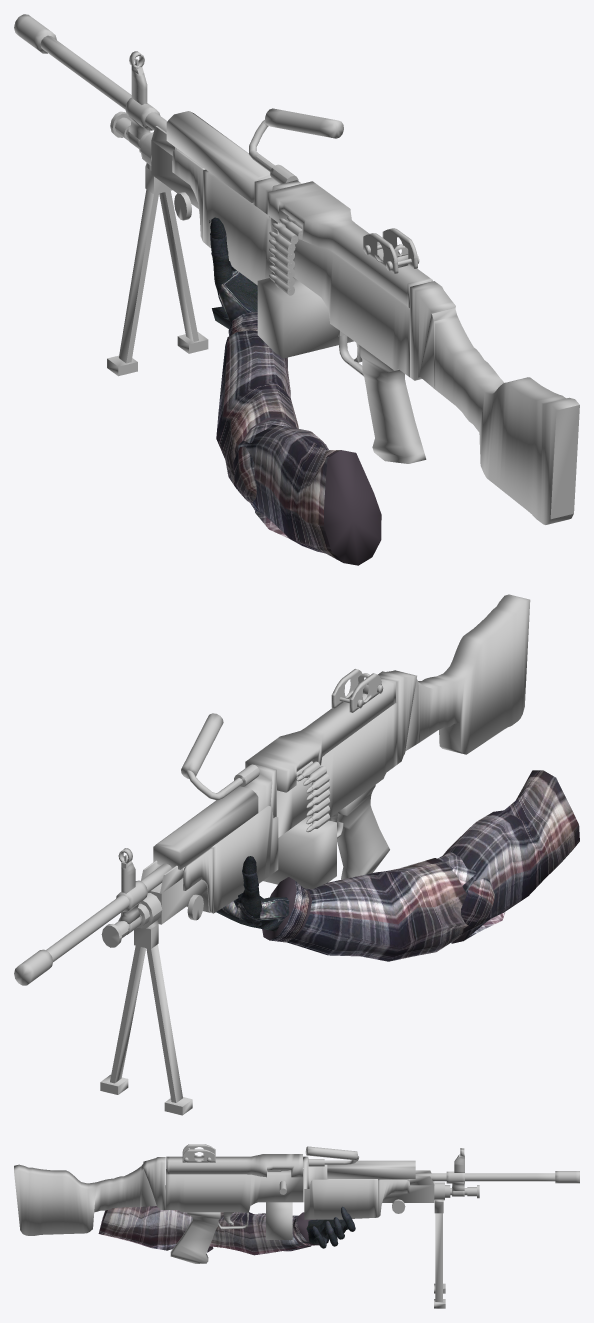
The model's file is m249_ads.fbx.
3 views of the same model, one above another, from view 1: azimuth 30°, elevation 25°; view 2: azimuth 150°, elevation 25°; view 3: azimuth 270°, elevation 25° (orthographic). The views are drawn at different scales.
Visible parts, largest first — view 1: larm, m249_stock, m249_body, m249_top, m249_grip, m249_bipod, m249_magazine, m249_pistol_grip, m249_cooler, m249_barrel, lhand, m249_front (+6 smaller); view 2: larm, m249_stock, m249_body, m249_grip, m249_top, m249_bipod, m249_cooler, m249_magazine, m249_pistol_grip, m249_barrel, lhand, m249_front (+5 smaller); view 3: m249_stock, m249_body, larm, m249_grip, m249_top, m249_pistol_grip, m249_cooler, m249_barrel, lhand, m249_front, m249_magazine, m249_bipod (+5 smaller).
Boxes of the visible parts, x1,y1,x2,y2 form: larm: (216, 311, 381, 565); m249_stock: (419, 308, 579, 524); m249_body: (253, 177, 455, 380); m249_top: (267, 181, 432, 307); m249_grip: (172, 149, 275, 285); m249_bipod: (107, 163, 208, 376); m249_magazine: (257, 277, 353, 358); m249_pistol_grip: (360, 346, 426, 463); m249_cooler: (166, 111, 271, 202); m249_barrel: (14, 14, 167, 132); lhand: (209, 217, 257, 328); m249_front: (151, 126, 198, 220); larm: (262, 770, 579, 961); m249_stock: (405, 594, 530, 754); m249_body: (244, 670, 416, 837); m249_grip: (183, 806, 278, 913); m249_top: (245, 677, 395, 792); m249_bipod: (100, 920, 192, 1115); m249_cooler: (153, 786, 258, 869); m249_magazine: (263, 816, 336, 888); m249_pistol_grip: (337, 785, 389, 879); m249_barrel: (14, 863, 172, 985); lhand: (216, 856, 289, 931); m249_front: (141, 860, 207, 924); m249_stock: (14, 1164, 156, 1235); m249_body: (143, 1156, 328, 1212); larm: (98, 1206, 318, 1255); m249_grip: (304, 1179, 409, 1219); m249_top: (166, 1154, 302, 1177); m249_pistol_grip: (170, 1212, 220, 1263); m249_cooler: (327, 1160, 415, 1178); m249_barrel: (415, 1171, 579, 1183); lhand: (301, 1206, 355, 1248); m249_front: (378, 1170, 434, 1213); m249_magazine: (266, 1202, 292, 1239); m249_bipod: (434, 1199, 445, 1308).
Bounding box in the file's own units: 11.48 × 16 × 49.37.
